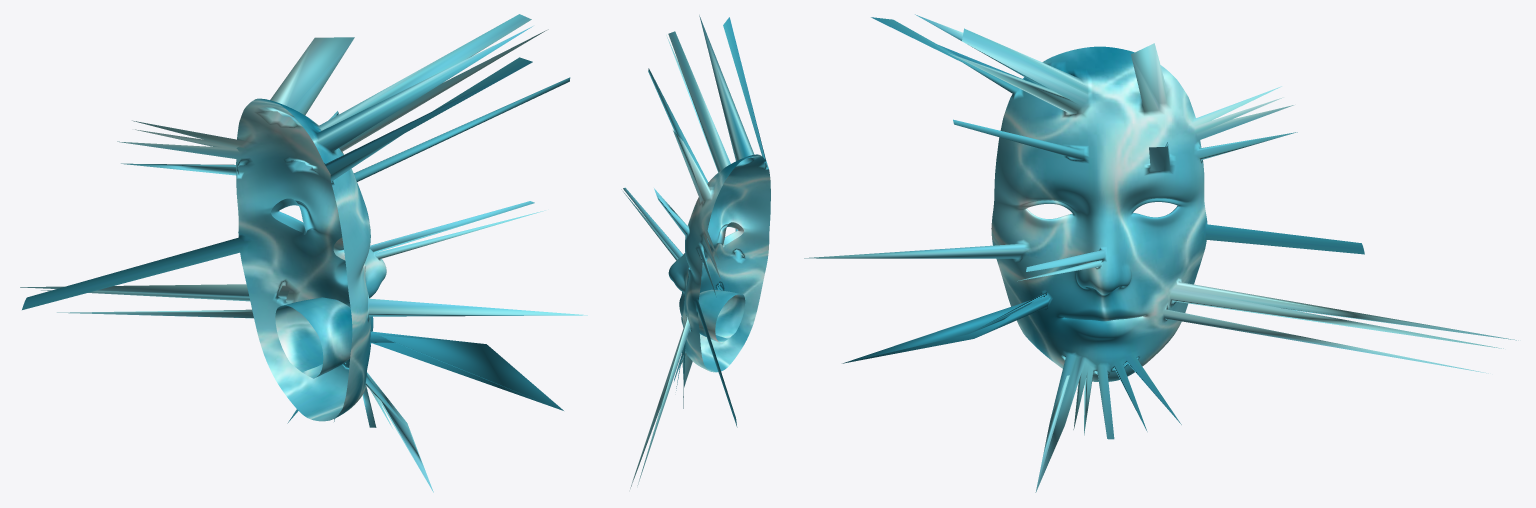
The model's file is Glitch Boss.fbx.
3 renders of one model, left to right at view 1: azimuth 30°, elevation 25°; view 2: azimuth 150°, elevation 25°; view 3: azimuth 270°, elevation 25°, orthographic. The views are drawn at different scales.
Visible parts, largest first — view 1: Glitch Boss; view 2: Glitch Boss; view 3: Glitch Boss.
Part boxes in pixels (x1=…): Glitch Boss: x1=20, y1=14, x2=587, y2=492; Glitch Boss: x1=621, y1=15, x2=770, y2=488; Glitch Boss: x1=804, y1=14, x2=1518, y2=492.
Bounding box in the file's own units: 1.88 × 2.58 × 3.39.
Materials: 1 (1 with a texture image).
